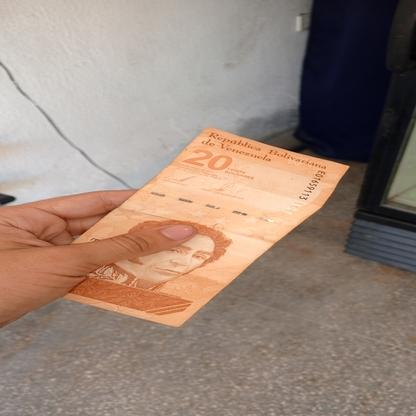twenty-front-vef: (61, 126, 351, 326)
